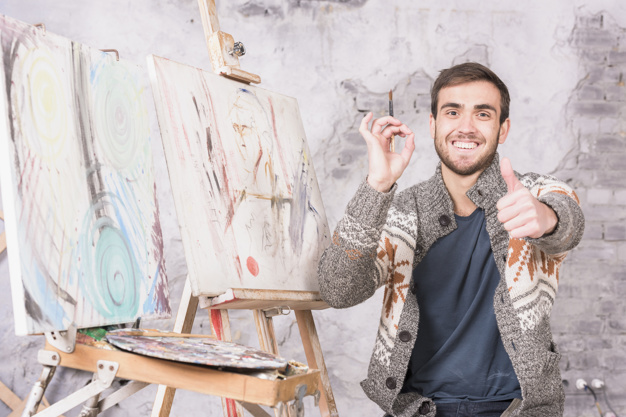thumbsup: (496, 157, 541, 238)
